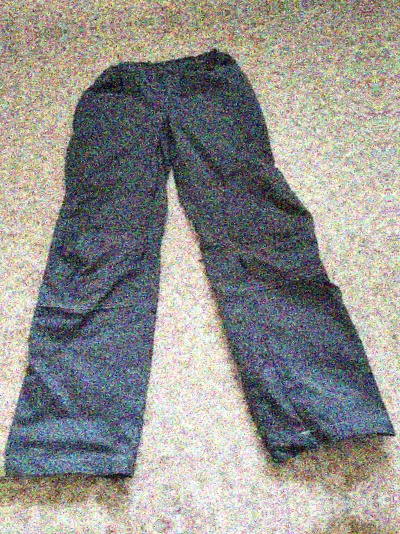Pants: (0, 25, 400, 511), (377, 0, 400, 463), (0, 0, 355, 15), (25, 528, 400, 534)
